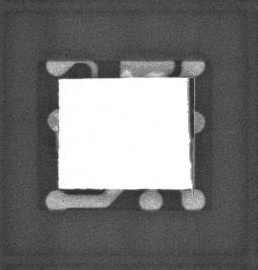DIE_BROKEN: (183, 74, 197, 185)
